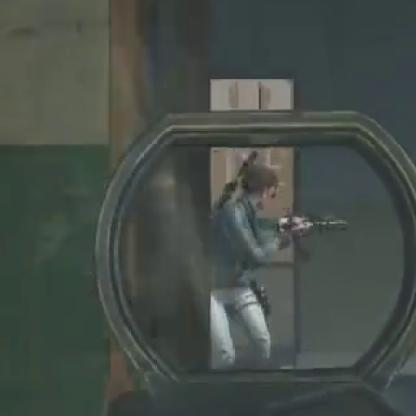enemy: (208, 153, 300, 372), (241, 164, 278, 210)
